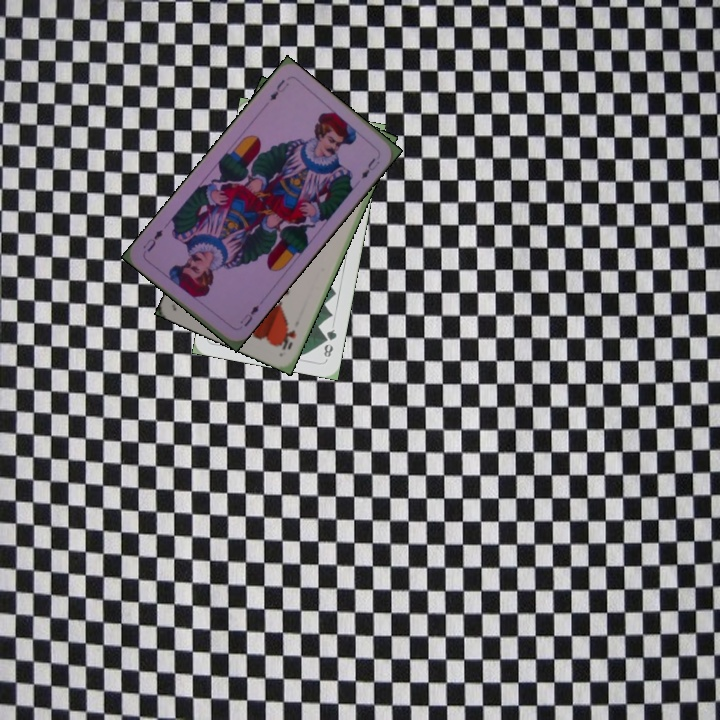EU: (236, 301, 262, 329), (266, 75, 291, 104)
G8: (320, 325, 339, 360)
HO: (277, 324, 299, 352)
